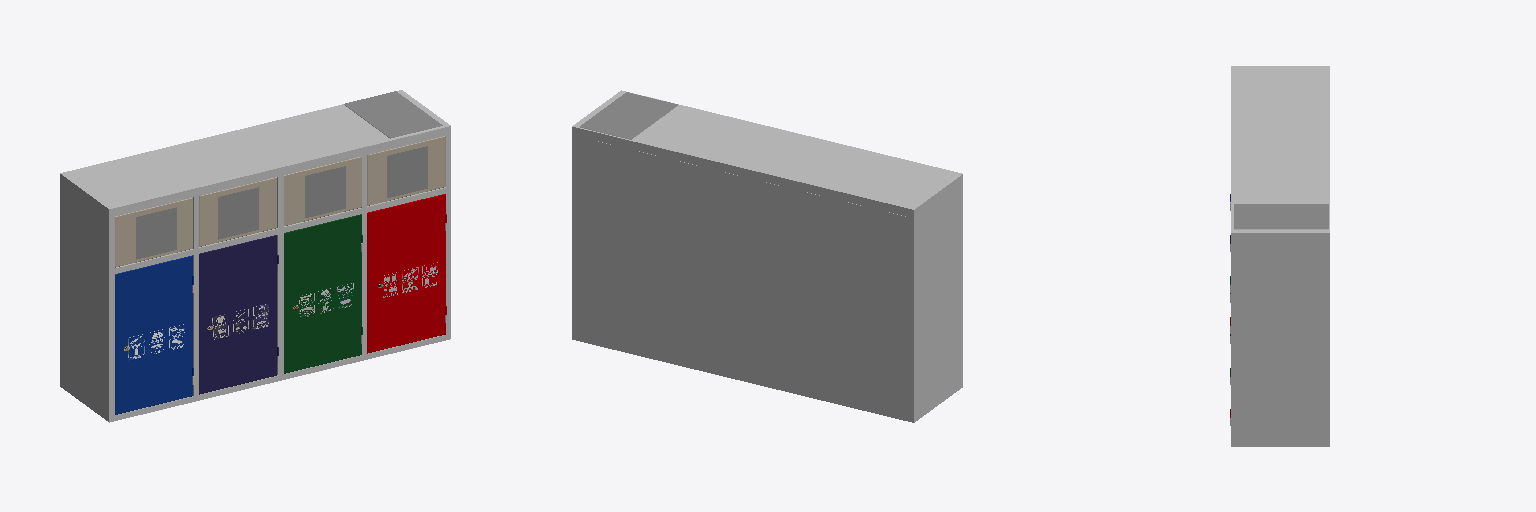
3 renders of one model, left to right at view 1: azimuth 30°, elevation 25°; view 2: azimuth 150°, elevation 25°; view 3: azimuth 270°, elevation 25°, orthographic.
Visible parts, largest first — view 1: Box003; view 2: Box003; view 3: Box003.
Part boxes in pixels (x1,y1,x2,y2): Box003: (60, 90, 450, 422); Box003: (572, 90, 962, 422); Box003: (1230, 66, 1329, 446).
Size of the model in its own units: 126 by 75.33 by 32.05.
Materials: 16 (11 with a texture image).